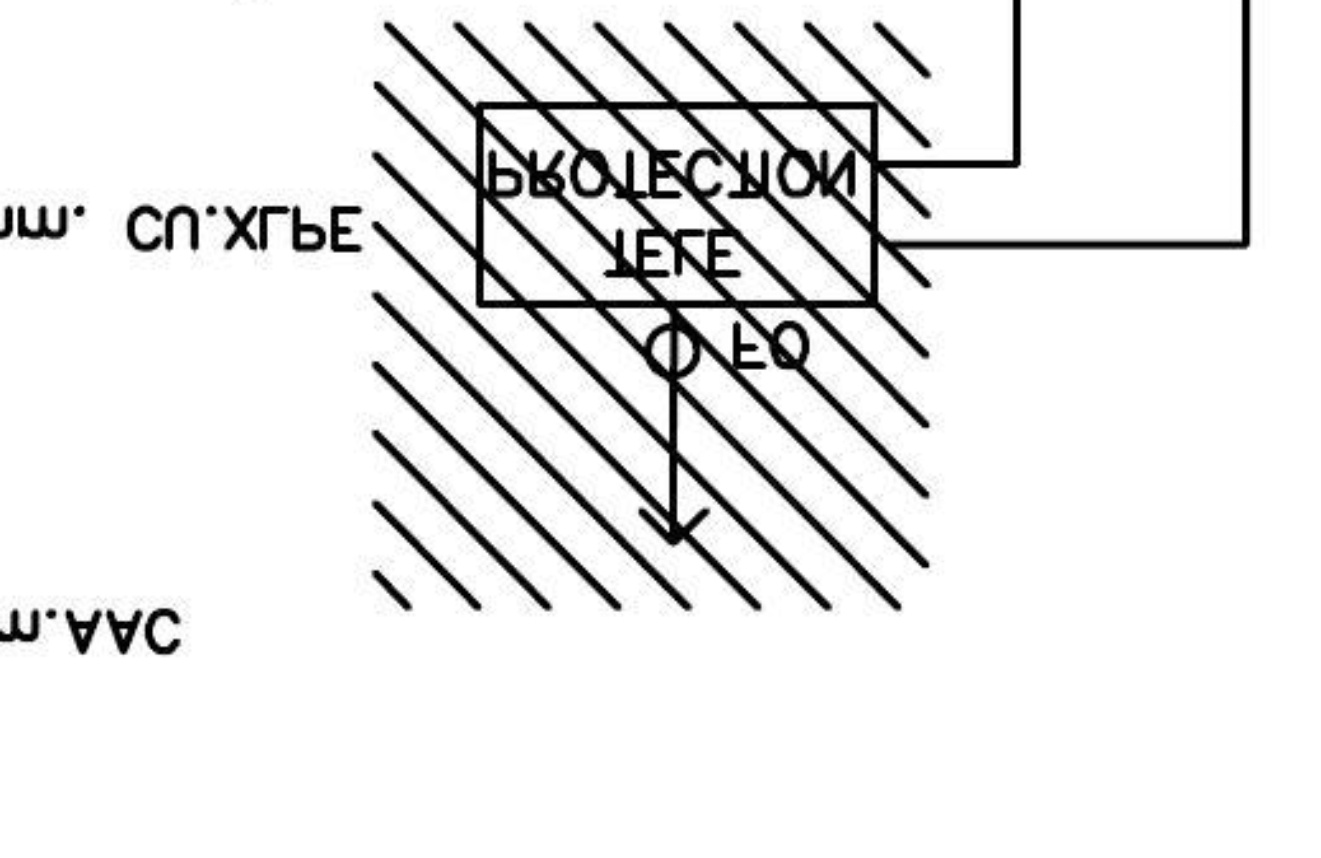tele_protection: (469, 94, 885, 315)
